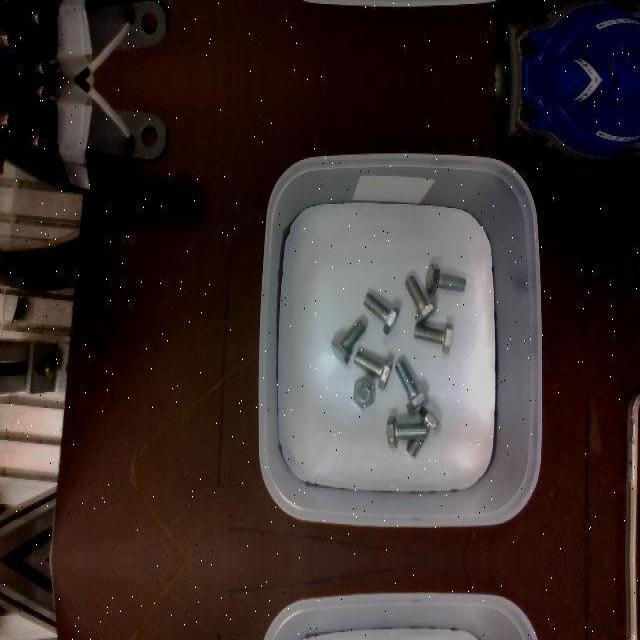screw: (394, 359, 428, 413), (405, 274, 438, 324), (330, 320, 366, 364), (354, 350, 393, 390), (363, 292, 399, 334), (387, 415, 428, 449), (414, 322, 453, 354), (425, 262, 465, 292), (352, 377, 375, 411)
